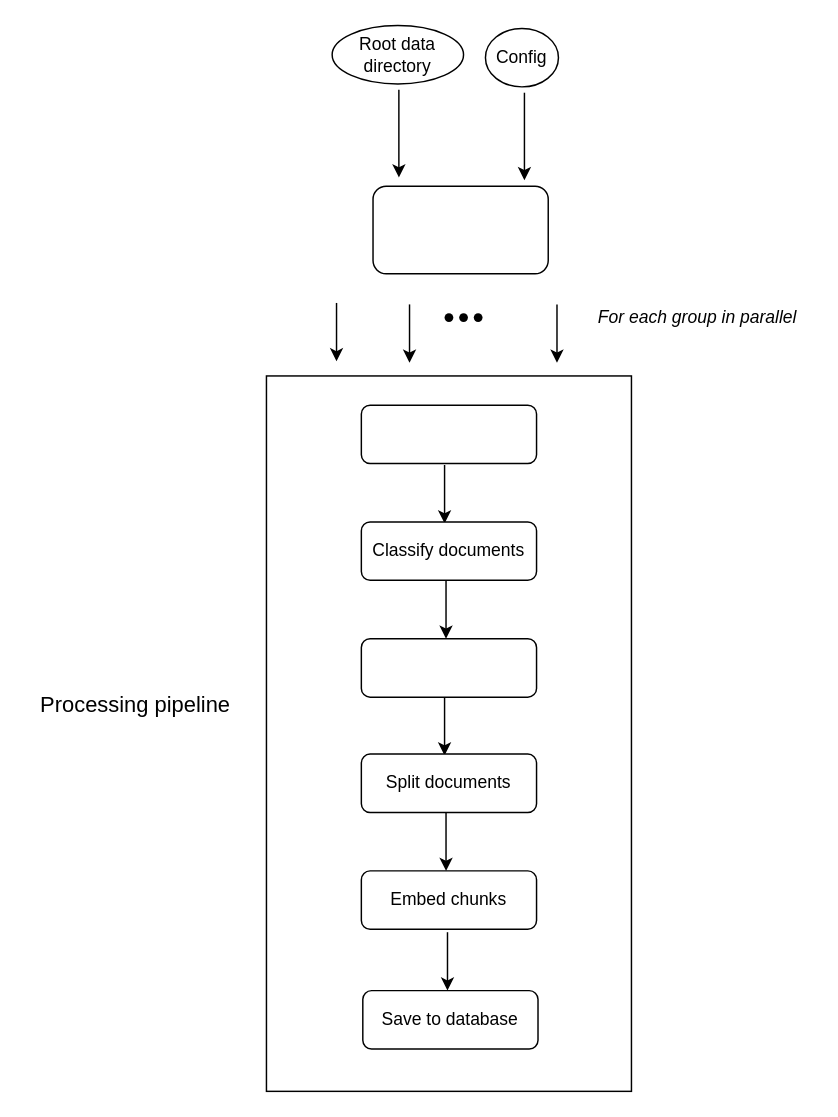
Some shapes in this 838 by 1117 pixel diagram are drawn without their labels. Each missing label, with the box of its shape:
Extract content: (360, 637, 537, 697)
File Indexing: (372, 185, 548, 274)
Parse documents: (360, 404, 537, 464)
